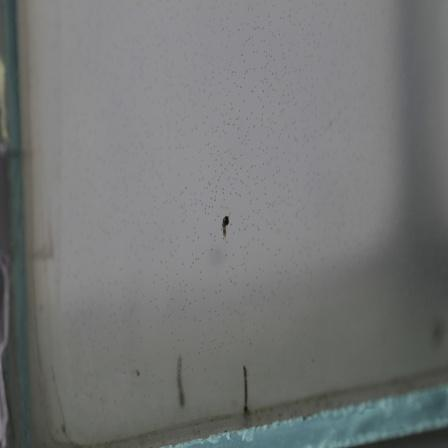Jentik-Nyamuk: (237, 364, 254, 422), (214, 209, 233, 243)
